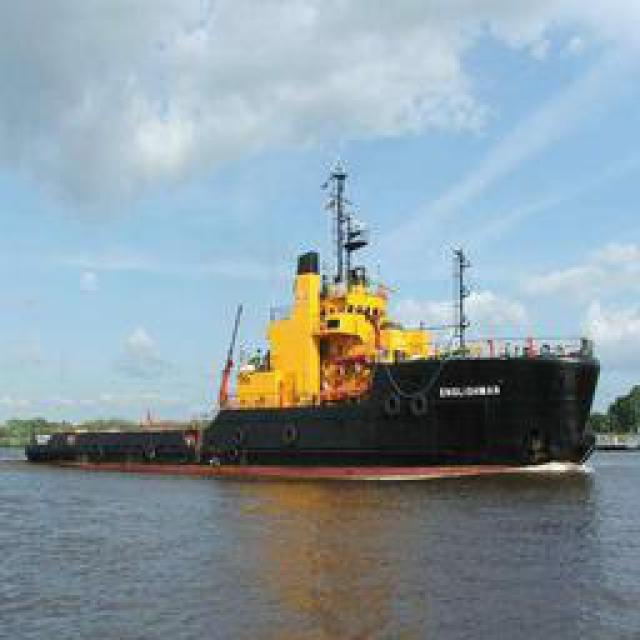Ship: (190, 194, 603, 464)
